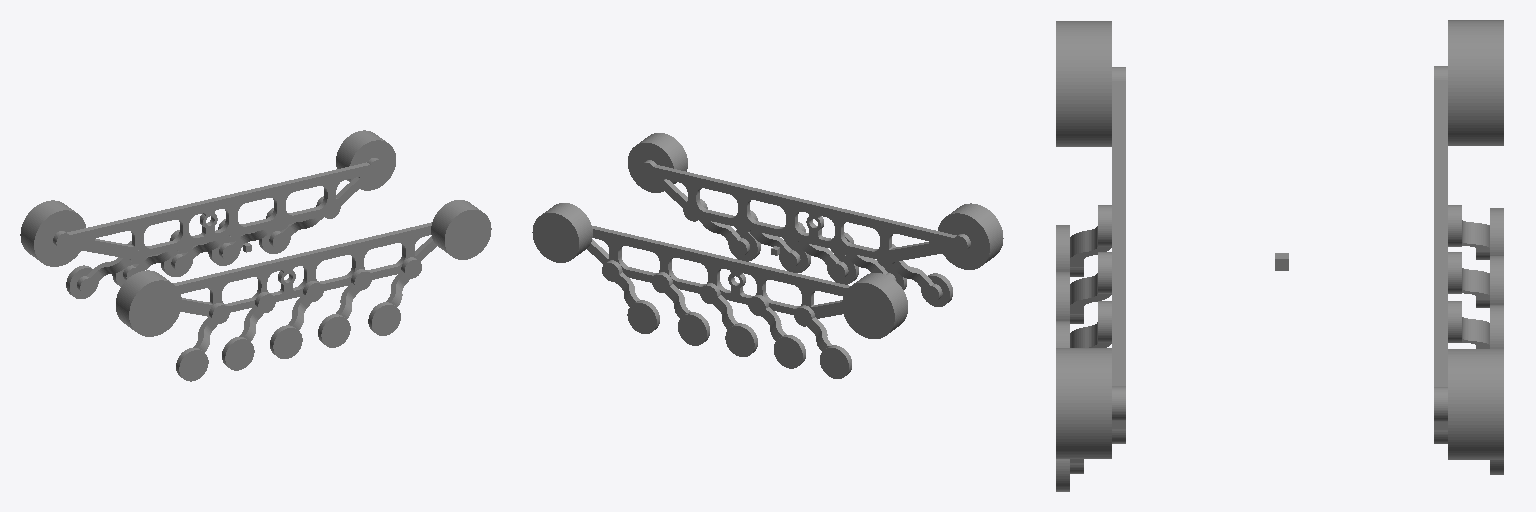
The robot description file, URDF, robot "capulus":
<?xml	version="1.0"?>
<robot	name="capulus">
		<link	name="base_link">
				<visual>
						<geometry>
								<mesh filename="package://capulus/meshes/ChasisV1.6.dae" scale="1 1 1"	/>
						</geometry>
						<origin	rpy="0 0 1.57079632679"	xyz="0 0 0.05"	/>
						<material	name="white">
								<color	rgba="0.5 0.5 0.5 1"	/>
						</material>
				</visual>
		</link>
		<link	name="left_side">
				<visual>
						<geometry>
								<mesh filename="package://capulus/meshes/SubensambleIzquierdo.dae" scale="1 1 1"	/>
						</geometry>
						<origin	rpy="1.57079632679 0 0"	xyz="0.055 0.47 0.022"	/>
						<material	name="black">
								<color	rgba="0.6 0.6 0.6 1"	/>
						</material>
				</visual>
		</link>
		<link	name="right_side">
				<visual>
						<geometry>
								<mesh filename="package://capulus/meshes/SubensambleDerecho.dae" scale="1 1 1"	/>
						</geometry>
						<origin	rpy="1.57079632679 0 0"	xyz="0.05 0.47 0.022"	/>
						<material	name="black"	/>
						<color	rgba="0.6 0.6 0.6 1"	/>
				</visual>
		</link>

		<joint	name="base_to_wheel1"	type="continuous">
				<parent	link="base_link"	/>
				<child	link="left_side"	/>
				<origin	rpy="0 0 1.57079632679"   xyz="0 0 0"	/>
				<axis xyz="1 0 0"	/>
		</joint>
		<joint	name="base_to_wheel2"	type="continuous">
				<parent	link="base_link"	/>
				<child	link="right_side"	/>
				<origin	rpy="0 0 1.57079632679"   xyz="0 0 0"	/>
				<axis xyz="1 0 0"	/>
		</joint>

<link	name="imu">
				<visual>
						<geometry>
								<box size="0.01 0.01 0.01"	/>
						</geometry>
						<origin	rpy="0 0 0"	xyz="0 0 0"	/>
						<material	name="black"	/>
						<color	rgba="0.6 0.6 0.6 1"	/>
				</visual>
		</link>

		<joint	name="imu_joint"	type="fixed">
				<parent	link="base_link"	/>
				<child	link="imu"	/>
				<origin	rpy="0 0 0"   xyz="0 0 0.05"	/>
		</joint>

</robot>

--- Facts derived from the render (not from the file) ---
3 views of the same robot in one strip: view 1: azimuth 30°, elevation 25°; view 2: azimuth 150°, elevation 25°; view 3: azimuth 270°, elevation 25° (orthographic).
Robot: capulus — 4 links, 3 joints (2 continuous, 1 fixed); root link base_link; default pose: all joints at 0.
Visible links, largest first — view 1: right_side, left_side; view 2: left_side, right_side; view 3: right_side, left_side.
Boxes of the visible links, left/top/right/bottom form: right_side: left=116, top=200, right=491, bottom=381; left_side: left=20, top=130, right=395, bottom=298; left_side: left=532, top=203, right=907, bottom=378; right_side: left=628, top=133, right=1003, bottom=306; right_side: left=1056, top=21, right=1125, bottom=491; left_side: left=1434, top=20, right=1503, bottom=474.
Bounding box of the posed robot: 0.6179 × 0.321 × 0.1813 m (x, y, z).
2 mesh visuals loaded from 3 distinct referenced files (2 Collada DAE); not drawn: 1 (reference not matched to a file when rendering).